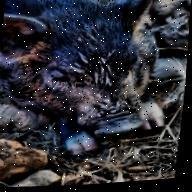boar: (0, 0, 179, 169)
